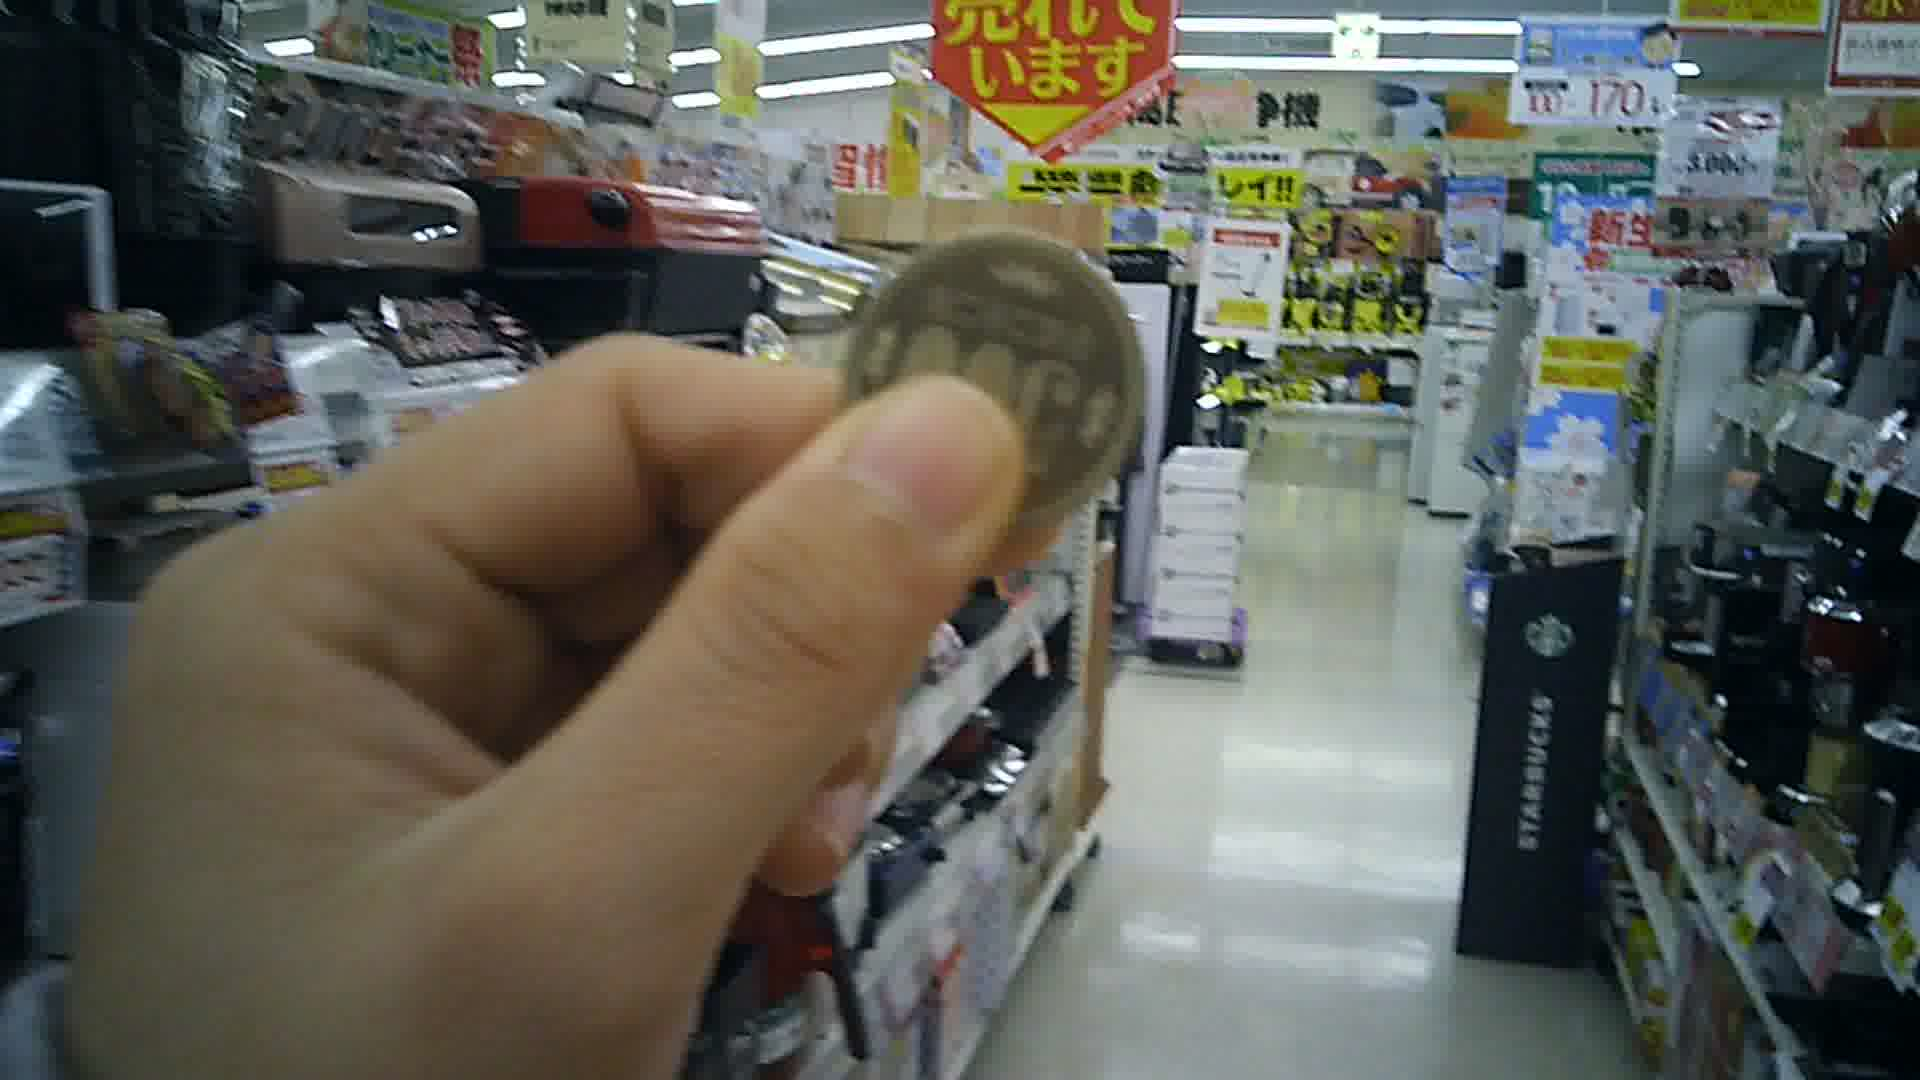500 Yen: (839, 237, 1156, 529)
